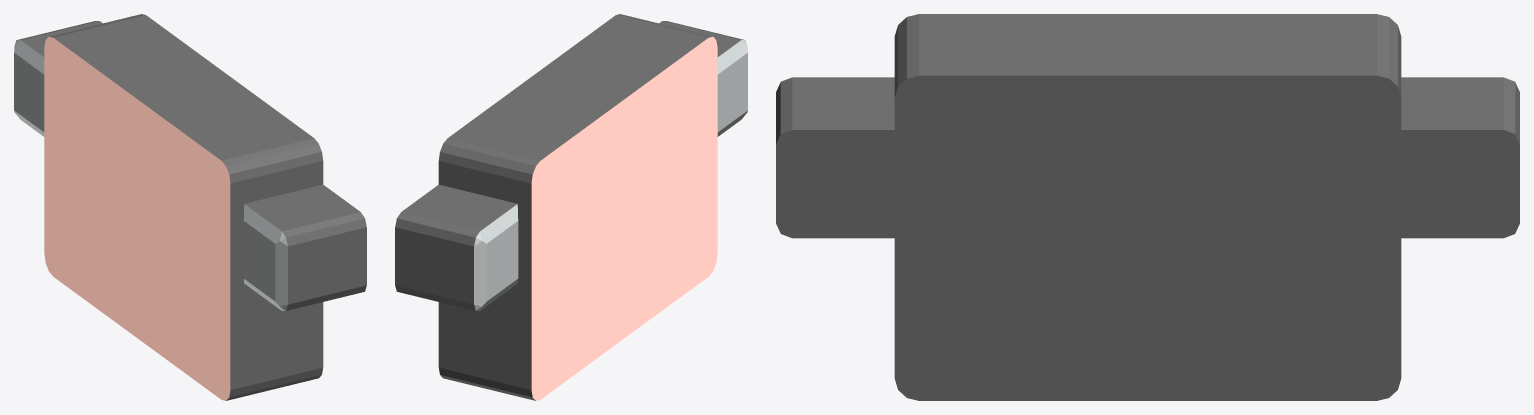
File: ExitSignV0.fbx
The picture shows the model from 3 angles, left to right: view 1: azimuth 30°, elevation 25°; view 2: azimuth 150°, elevation 25°; view 3: azimuth 270°, elevation 25°; orthographic projection. The views are drawn at different scales.
Parts seen in each view (by area): view 1: Cube; view 2: Cube; view 3: Cube.
Boxes of the visible parts, x1=… form: Cube: x1=14, y1=14, x2=366, y2=400; Cube: x1=395, y1=14, x2=747, y2=400; Cube: x1=776, y1=14, x2=1519, y2=400.
Size of the model in its own units: 30.34 by 74.7 by 155.
